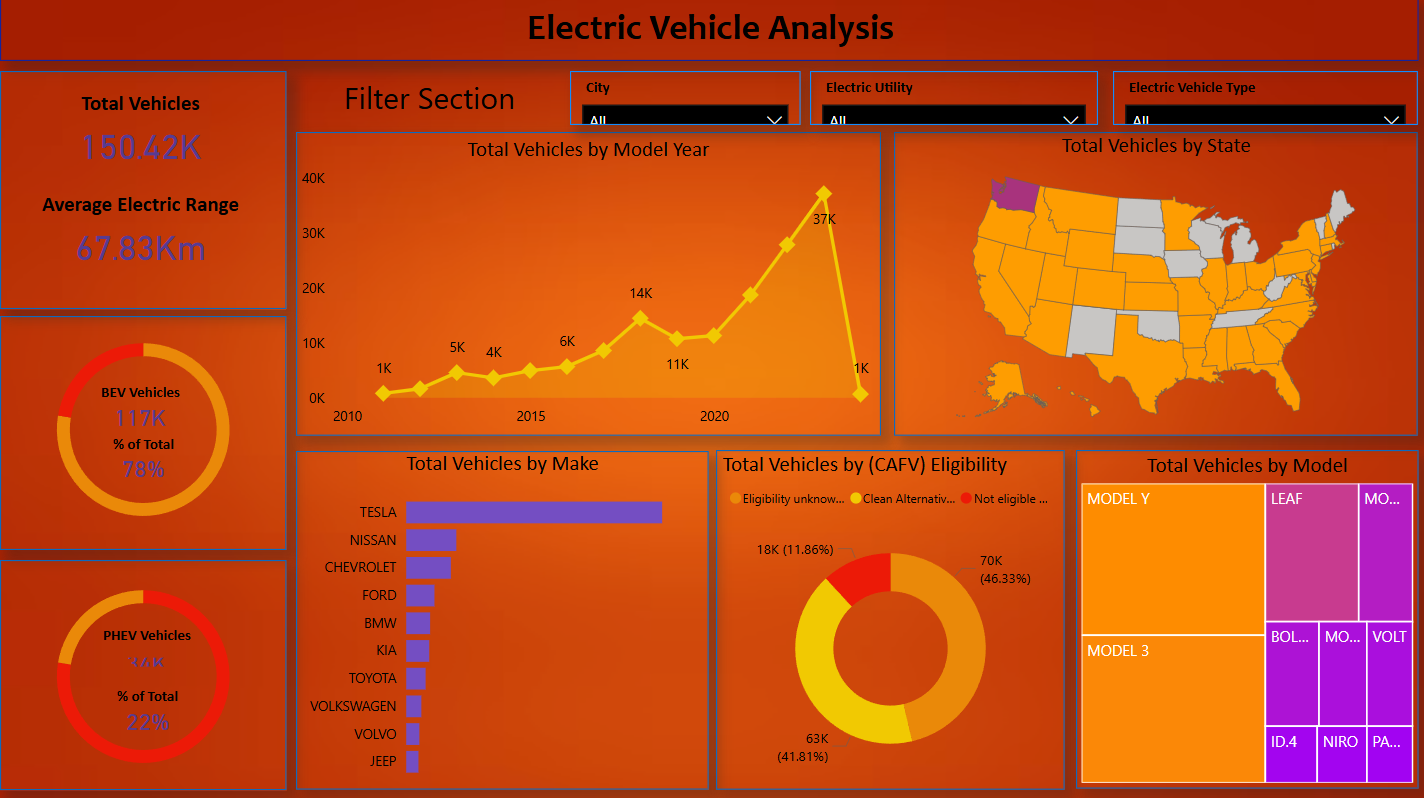

This screenshot's page, from the dashboard's own definition file:
{"tool":"tableau","page":{"name":"Dashboard 1","canvas":[1600,900],"ordinal":0},"visuals":[{"type":"title","box":[8,8,1584,40]},{"type":"worksheet","title":"Avg Electric Range","mark":"Automatic","box":[181,48,353,130]},{"type":"worksheet","title":"Total Vehicles","mark":"Automatic","box":[534,48,353,130]},{"type":"worksheet","title":"Total BEV Vehicles","mark":"Automatic","box":[887,48,353,130]},{"type":"worksheet","title":"Total PHEV Vehicles","mark":"Automatic","box":[1240,48,352,130]},{"type":"legend","title":"Total Vehicles by State","param":"[federated.121vso91ufamwc1gqtwi91ap9co1].[usr:Calculation_613896989328658432:qk]","box":[9,50,170,54]},{"type":"filter","title":"Total Vehicles by Model","param":"[federated.121vso91ufamwc1gqtwi91ap9co1].[none:Electric Vehicle Type:nk]","box":[9,112,168,82]},{"type":"worksheet","title":"Total Vehicles by Model year","mark":"Area","rows":["Calculation_613896989328658432","Calculation_613896989328658432"],"cols":["Model Year"],"box":[181,178,655.5,357]},{"type":"worksheet","title":"Total Vehicles by State","mark":"Multipolygon","box":[836.5,178,755.5,357]},{"type":"filter","title":"Total Vehicles by CAFV Eligibility","param":"[federated.121vso91ufamwc1gqtwi91ap9co1].[none:Clean Alternative Fuel Vehicle (C","box":[9,196,169,83]},{"type":"filter","title":"Total Vehicles by Model","param":"[federated.121vso91ufamwc1gqtwi91ap9co1].[none:Model:nk]","box":[10,277,168,80]},{"type":"filter","title":"Total Vehicles by State","param":"[federated.121vso91ufamwc1gqtwi91ap9co1].[none:State:nk]","box":[12,358,168,86]},{"type":"worksheet","title":"Top 10 Vehicles by Make","mark":"Automatic","rows":["Make"],"cols":["Calculation_613896989328658432"],"box":[182,536,504,355]},{"type":"worksheet","title":"Total Vehicles by CAFV Eligibility","mark":"Pie","rows":["Calculation_613896989359185928","Calculation_613896989359185928"],"box":[686,536,373,355]},{"type":"worksheet","title":"Total Vehicles by Model","mark":"Square","rows":["Model","Make","Electric Vehicle Type"],"box":[1059,536,532,355]},{"type":"parameter","param":"[Parameters].[Parameter 1]","box":[511,545,167,29]}]}

Visuals, with their boxes in screenshot pixels (x1, y1, x2, y2), scaled from the page's 1600x900 canvas onto the 1424x798 screenshot:
title: left=7, top=7, right=1417, bottom=43
"Avg Electric Range" worksheet: left=161, top=43, right=475, bottom=158
"Total Vehicles" worksheet: left=475, top=43, right=789, bottom=158
"Total BEV Vehicles" worksheet: left=789, top=43, right=1104, bottom=158
"Total PHEV Vehicles" worksheet: left=1104, top=43, right=1417, bottom=158
"Total Vehicles by State" legend: left=8, top=44, right=159, bottom=92
"Total Vehicles by Model" filter: left=8, top=99, right=158, bottom=172
"Total Vehicles by Model year" worksheet (Area marks): left=161, top=158, right=744, bottom=474
"Total Vehicles by State" worksheet (Multipolygon marks): left=744, top=158, right=1417, bottom=474
"Total Vehicles by CAFV Eligibility" filter: left=8, top=174, right=158, bottom=247
"Total Vehicles by Model" filter: left=9, top=246, right=158, bottom=317
"Total Vehicles by State" filter: left=11, top=317, right=160, bottom=394
"Top 10 Vehicles by Make" worksheet: left=162, top=475, right=611, bottom=790
"Total Vehicles by CAFV Eligibility" worksheet (Pie marks): left=611, top=475, right=943, bottom=790
"Total Vehicles by Model" worksheet (Square marks): left=943, top=475, right=1416, bottom=790
parameter: left=455, top=483, right=603, bottom=509
